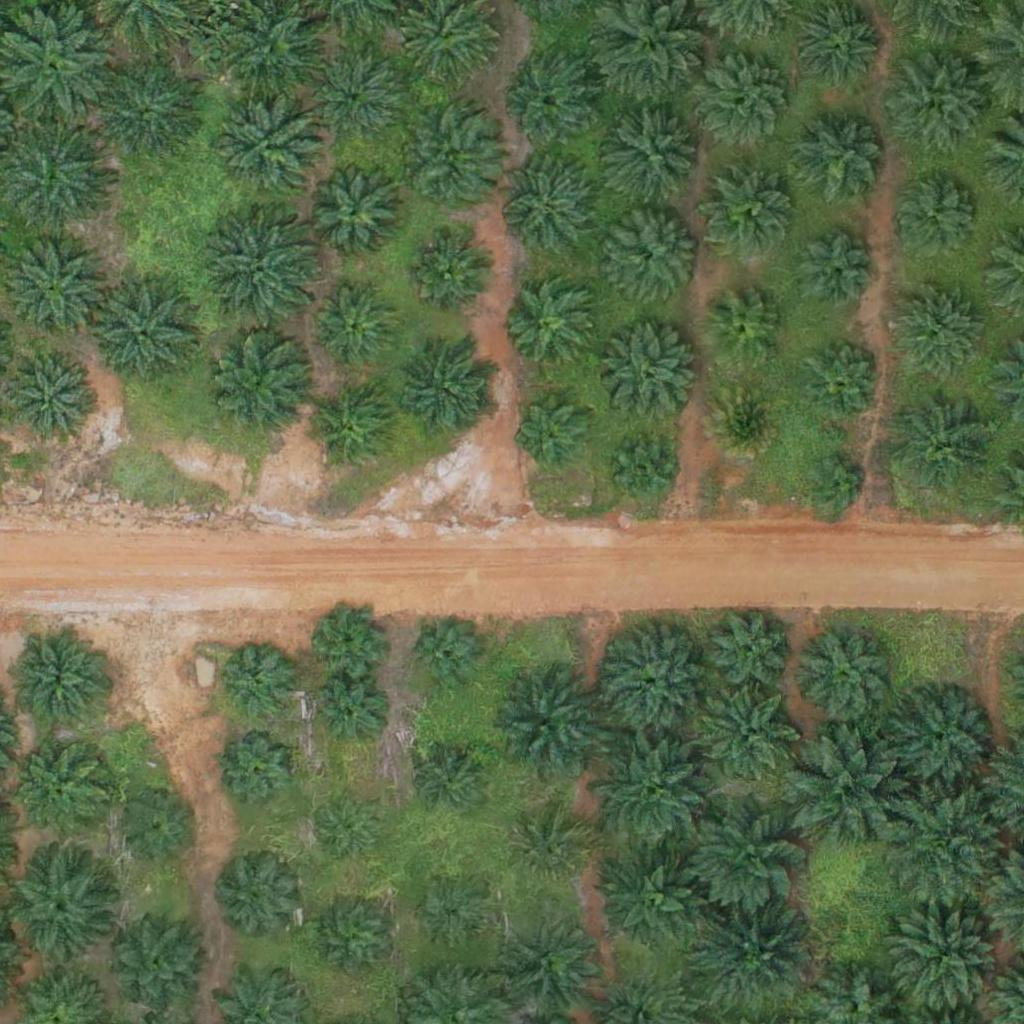Kelapa_Sawit: (483, 663, 608, 789), (590, 724, 715, 850), (685, 794, 810, 920), (782, 727, 907, 853), (885, 786, 1010, 912), (5, 850, 118, 964), (891, 904, 1004, 1018), (206, 213, 319, 326), (599, 846, 711, 959), (698, 899, 810, 1012), (889, 53, 989, 154), (98, 64, 198, 165), (221, 1, 321, 102), (223, 104, 323, 205), (399, 340, 499, 441), (212, 326, 312, 427), (97, 283, 197, 384), (5, 240, 105, 341), (600, 627, 700, 728), (894, 392, 994, 492), (694, 49, 794, 149), (402, 120, 502, 220), (604, 206, 704, 306), (600, 324, 700, 424), (109, 917, 209, 1017), (699, 684, 799, 784), (889, 690, 989, 790), (309, 382, 397, 471), (707, 169, 795, 257), (307, 52, 395, 140), (309, 169, 397, 257), (610, 109, 698, 197), (411, 230, 499, 318), (312, 281, 400, 369), (10, 355, 98, 443), (216, 852, 304, 940), (311, 895, 399, 983), (892, 169, 979, 257), (894, 281, 981, 369), (797, 118, 884, 206), (513, 58, 600, 146), (504, 164, 591, 252), (510, 283, 597, 371), (17, 632, 104, 720), (19, 746, 106, 834), (508, 918, 595, 1006), (705, 605, 792, 693), (799, 631, 886, 719), (707, 294, 782, 370), (797, 233, 872, 309), (804, 342, 879, 418), (708, 383, 783, 459), (606, 432, 681, 508), (125, 793, 200, 869), (514, 811, 589, 886), (516, 391, 591, 466), (222, 644, 297, 719), (222, 736, 297, 811), (306, 602, 381, 677), (310, 680, 385, 755), (408, 617, 483, 692), (411, 747, 486, 822), (417, 877, 492, 952), (806, 455, 868, 518), (316, 799, 378, 862)
